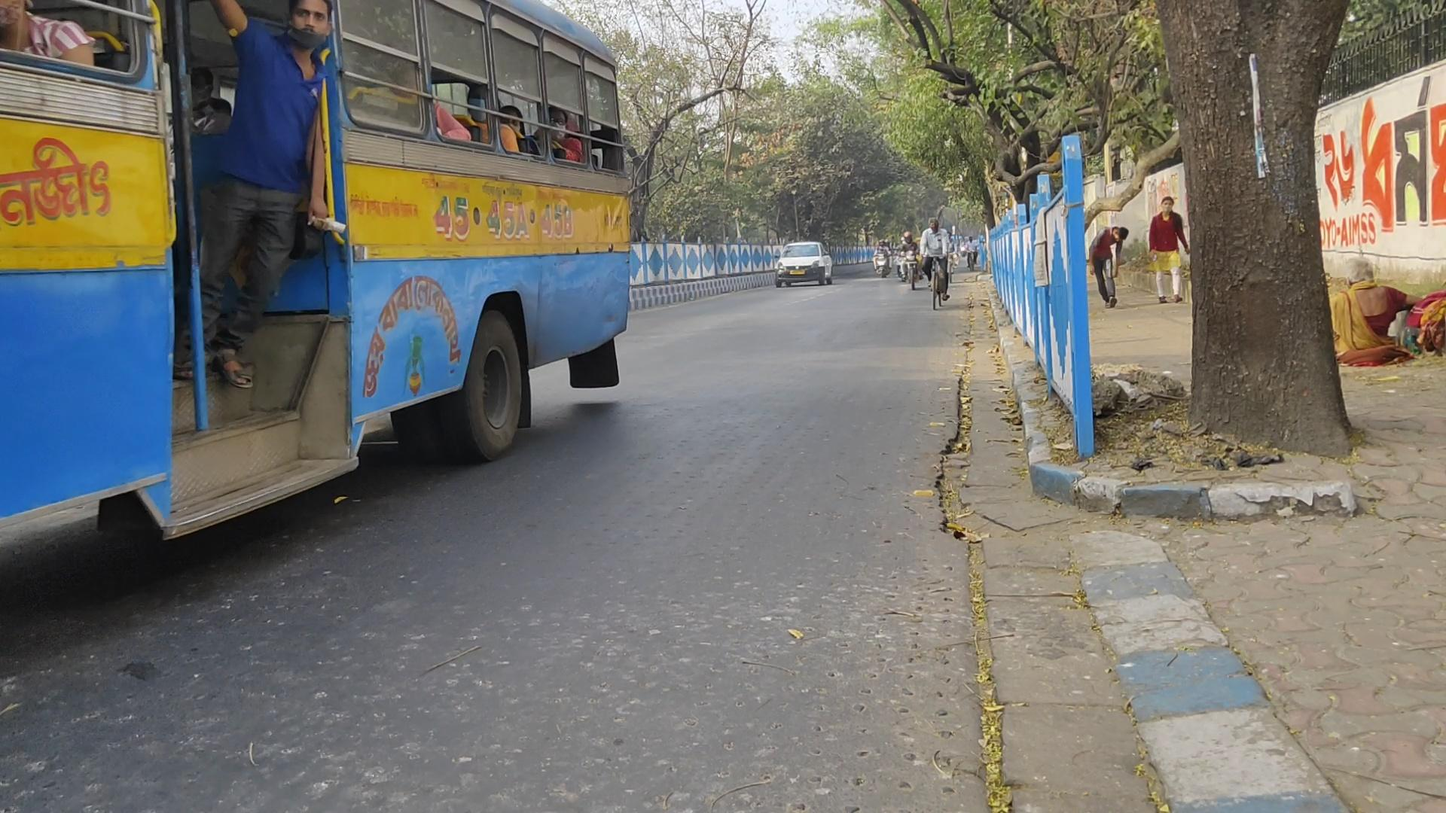Bus: (2, 2, 630, 548)
bike: (920, 218, 951, 310), (893, 232, 922, 292), (872, 239, 893, 279), (965, 236, 978, 272)
car: (773, 240, 832, 291)
